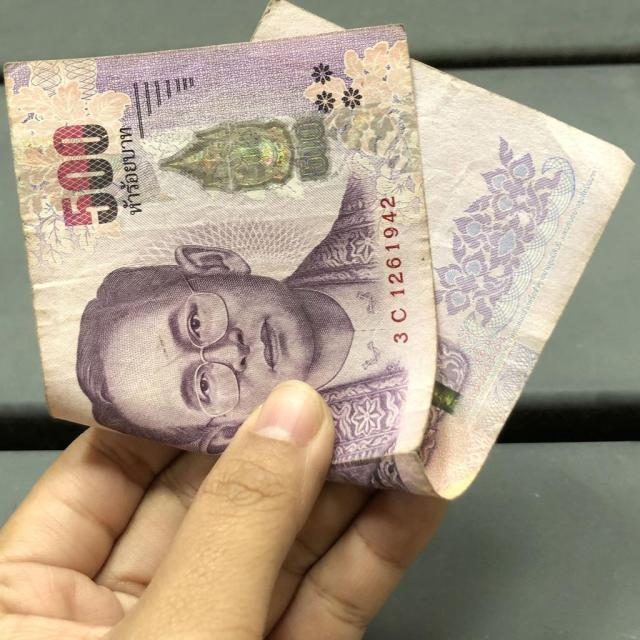THAI500: (6, 0, 633, 499)
